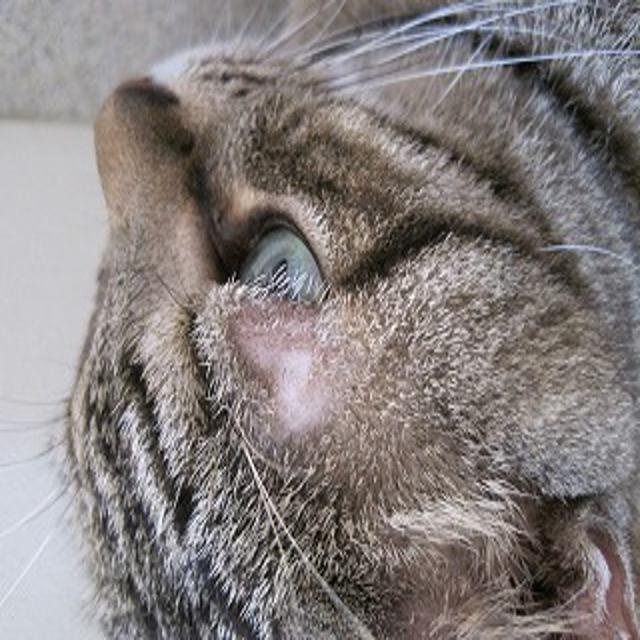hairloss: (251, 334, 320, 442)
